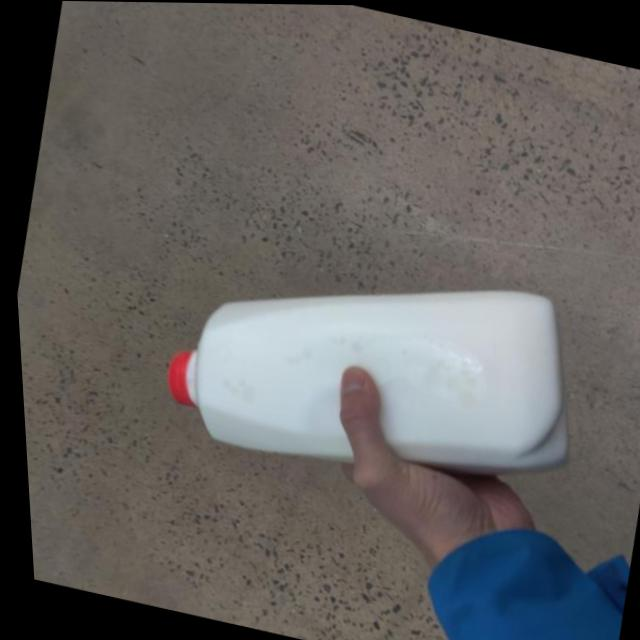Milk: (148, 214, 590, 511)
